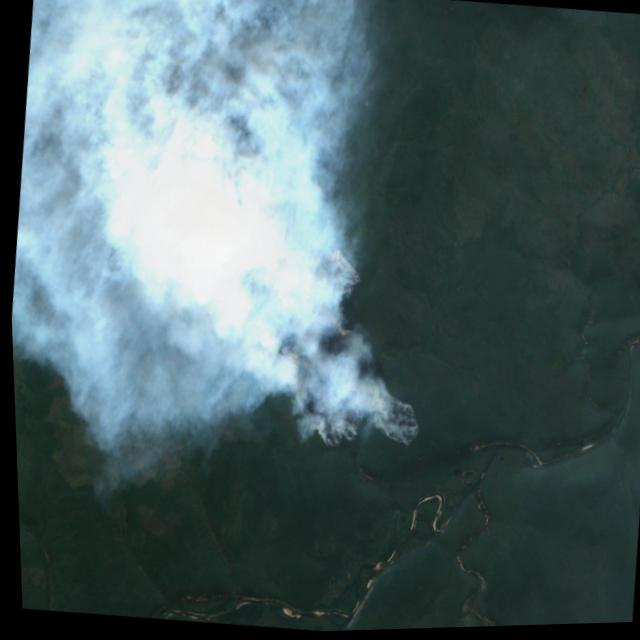fire: (240, 217, 384, 456)
